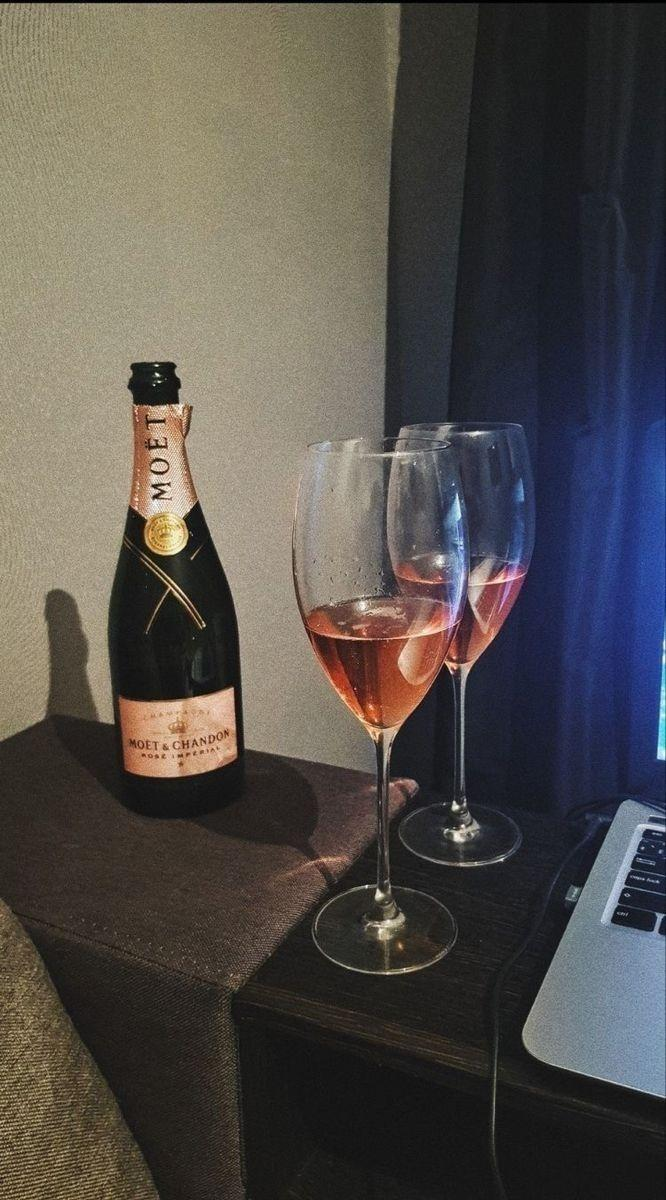bottle-glass: (104, 358, 247, 821)
glass-wine: (287, 431, 468, 987), (384, 417, 536, 871)
